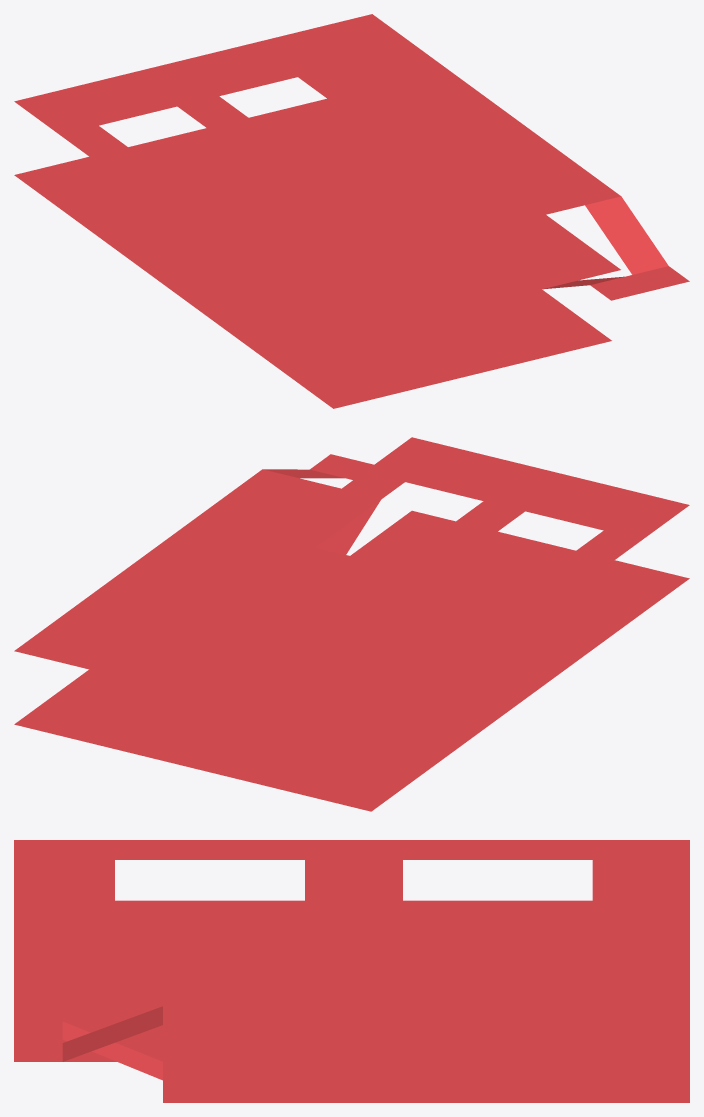
The model's file is NA_floor.fbx.
The picture shows the model from 3 angles, top to bottom: view 1: azimuth 30°, elevation 25°; view 2: azimuth 150°, elevation 25°; view 3: azimuth 270°, elevation 25°; orthographic projection. The views are drawn at different scales.
Visible parts, largest first — view 1: floor; view 2: floor; view 3: floor.
Boxes of the visible parts, x1,y1,x2,y2 form: floor: (14,14,689,408); floor: (14,437,689,811); floor: (14,840,689,1102).
Bounding box in the file's own units: 13706 × 2691 × 21168.
